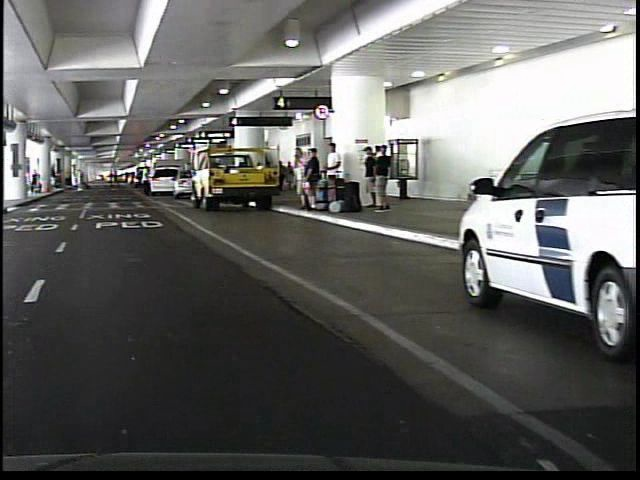person: (370, 144, 388, 216), (287, 145, 306, 207), (69, 162, 84, 196), (136, 165, 147, 197)
